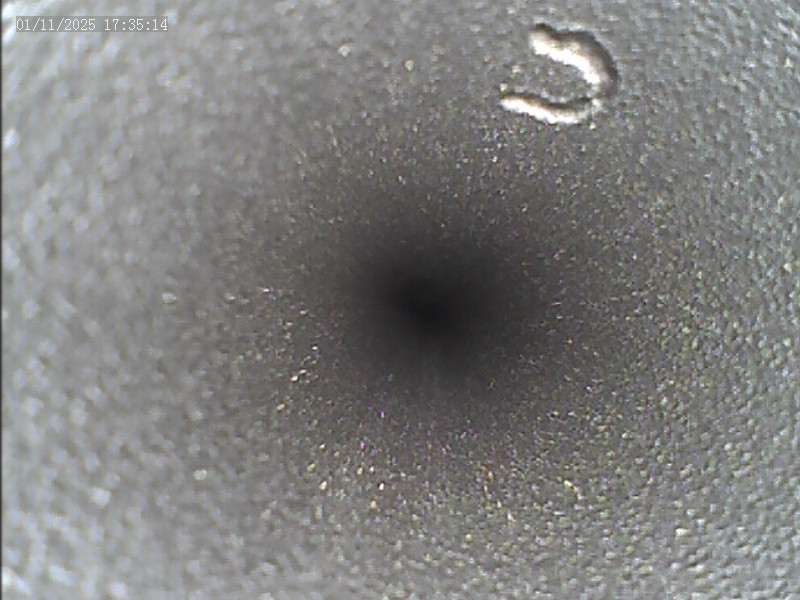defective_area: (498, 19, 621, 132)
